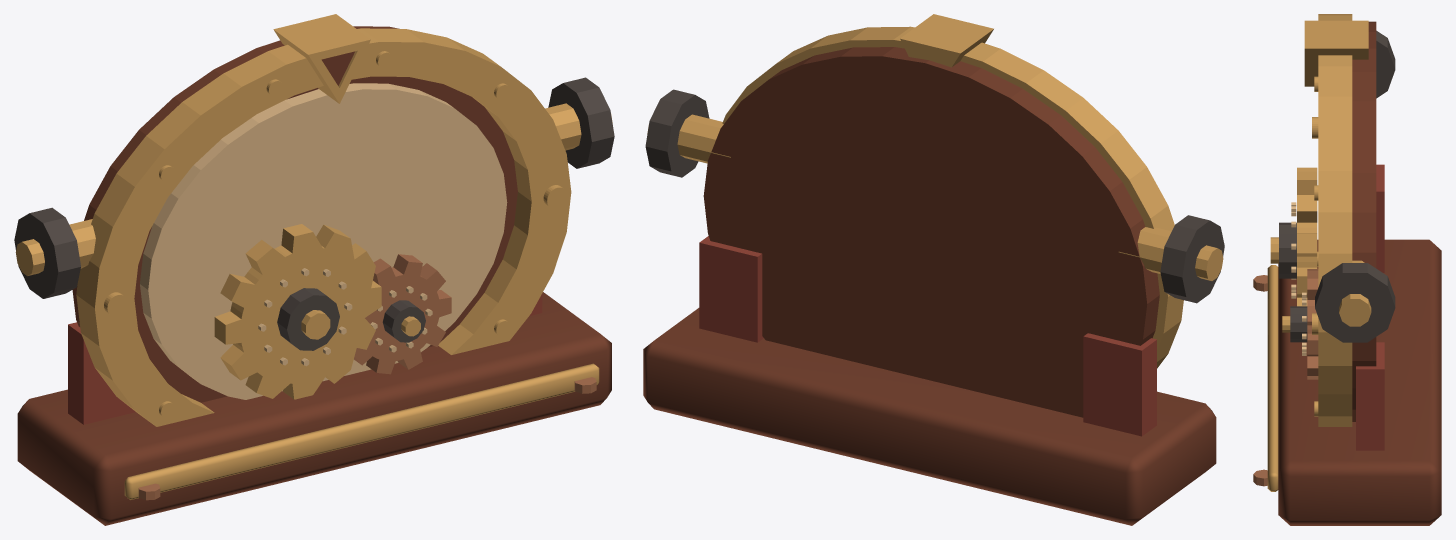
File: Ajustes.fbx
3 renders of one model, left to right at view 1: azimuth 30°, elevation 25°; view 2: azimuth 150°, elevation 25°; view 3: azimuth 270°, elevation 25°, orthographic. The views are drawn at different scales.
Parts seen in each view (by area): view 1: Cylinder.003, Cylinder.007, AJUSTES_Base_madera, AJUSTES_Eje_Grande, AJUSTES_Base_frontal_latón, Cylinder, AJUSTES_Tapa_eje, AJUSTES_Engranaje_Pequeño, Cube.001, AJUSTES_Tapa_eje.002, AJUSTES_Nucleo_Grande, AJUSTES_Nucleo_Pequeño; view 2: Cylinder, AJUSTES_Base_madera, Cylinder.007, Cube.001, AJUSTES_Tapa_eje, AJUSTES_Tapa_eje.002; view 3: AJUSTES_Base_madera, Cylinder.007, Cylinder, AJUSTES_Tapa_eje, Cube.001, AJUSTES_Eje_Grande, AJUSTES_Base_frontal_latón, AJUSTES_Engranaje_Pequeño, AJUSTES_Nucleo_Grande, AJUSTES_Tapa_eje.002, AJUSTES_Nucleo_Pequeño, AJUSTES_Remache_base (+1 smaller).
Part boxes in pixels (bbox=[...]): Cylinder.003: bbox=[140, 83, 507, 399]; Cylinder.007: bbox=[76, 14, 571, 426]; AJUSTES_Base_madera: bbox=[17, 292, 611, 525]; AJUSTES_Eje_Grande: bbox=[214, 224, 381, 399]; AJUSTES_Base_frontal_latón: bbox=[124, 363, 599, 499]; Cylinder: bbox=[72, 26, 517, 402]; AJUSTES_Tapa_eje: bbox=[14, 77, 614, 298]; AJUSTES_Engranaje_Pequeño: bbox=[354, 254, 451, 374]; Cube.001: bbox=[68, 294, 542, 424]; AJUSTES_Tapa_eje.002: bbox=[15, 103, 612, 275]; AJUSTES_Nucleo_Grande: bbox=[277, 288, 339, 350]; AJUSTES_Nucleo_Pequeño: bbox=[382, 300, 425, 342]; Cylinder: bbox=[703, 47, 1159, 417]; AJUSTES_Base_madera: bbox=[643, 308, 1216, 525]; Cylinder.007: bbox=[722, 14, 1183, 368]; Cube.001: bbox=[699, 236, 1156, 436]; AJUSTES_Tapa_eje: bbox=[645, 89, 1224, 303]; AJUSTES_Tapa_eje.002: bbox=[647, 114, 1223, 280]; AJUSTES_Base_madera: bbox=[1278, 239, 1441, 525]; Cylinder.007: bbox=[1304, 14, 1368, 426]; Cylinder: bbox=[1352, 21, 1376, 421]; AJUSTES_Tapa_eje: bbox=[1315, 30, 1395, 342]; Cube.001: bbox=[1356, 164, 1384, 450]; AJUSTES_Eje_Grande: bbox=[1270, 167, 1317, 306]; AJUSTES_Base_frontal_latón: bbox=[1267, 265, 1278, 491]; AJUSTES_Engranaje_Pequeño: bbox=[1307, 269, 1318, 379]; AJUSTES_Nucleo_Grande: bbox=[1279, 222, 1296, 278]; AJUSTES_Tapa_eje.002: bbox=[1339, 260, 1371, 326]; AJUSTES_Nucleo_Pequeño: bbox=[1290, 306, 1307, 342]; AJUSTES_Remache_base: bbox=[1253, 275, 1267, 486].
Size of the model in its own units: 128 by 87.03 by 39.2.
